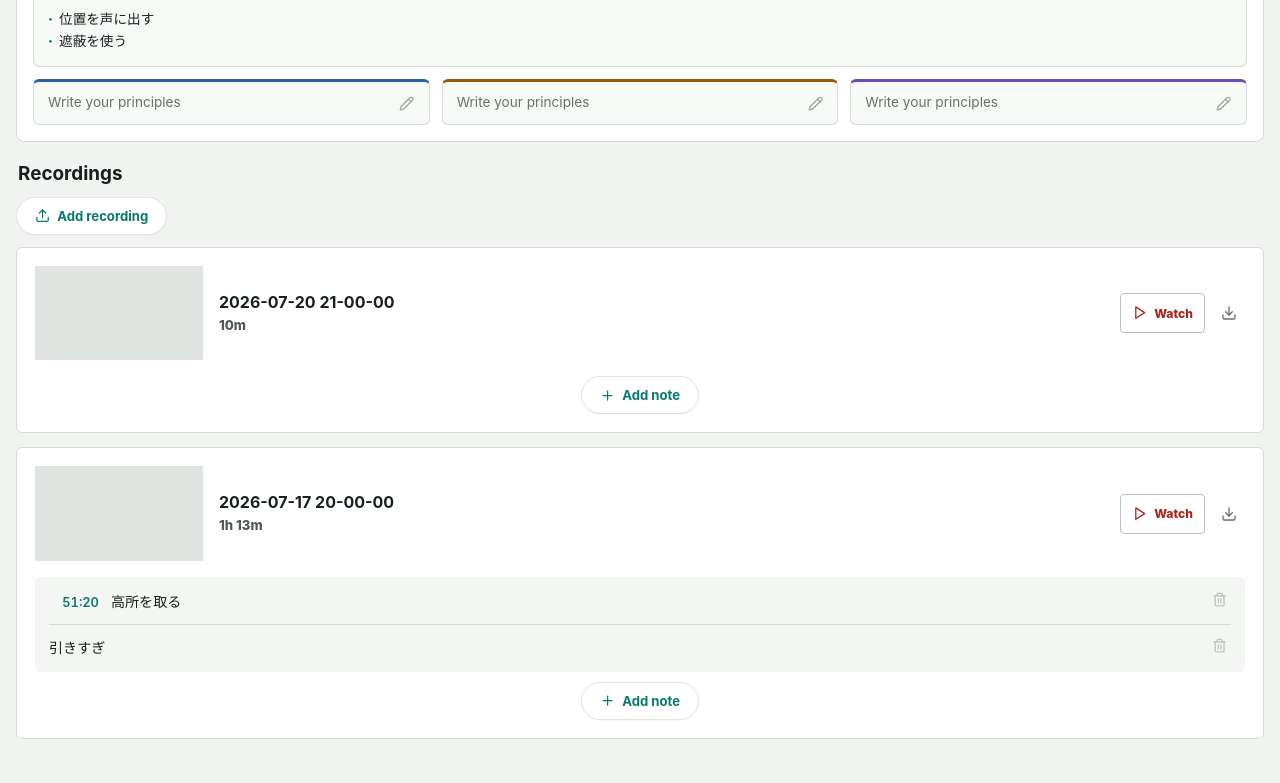
Test case: home › asks before deleting and shows save and delete failures in the row
(page scrolled)
Click the button named "Delete" in the row of "51:20": (1219, 601) [1208, 589, 1231, 614]
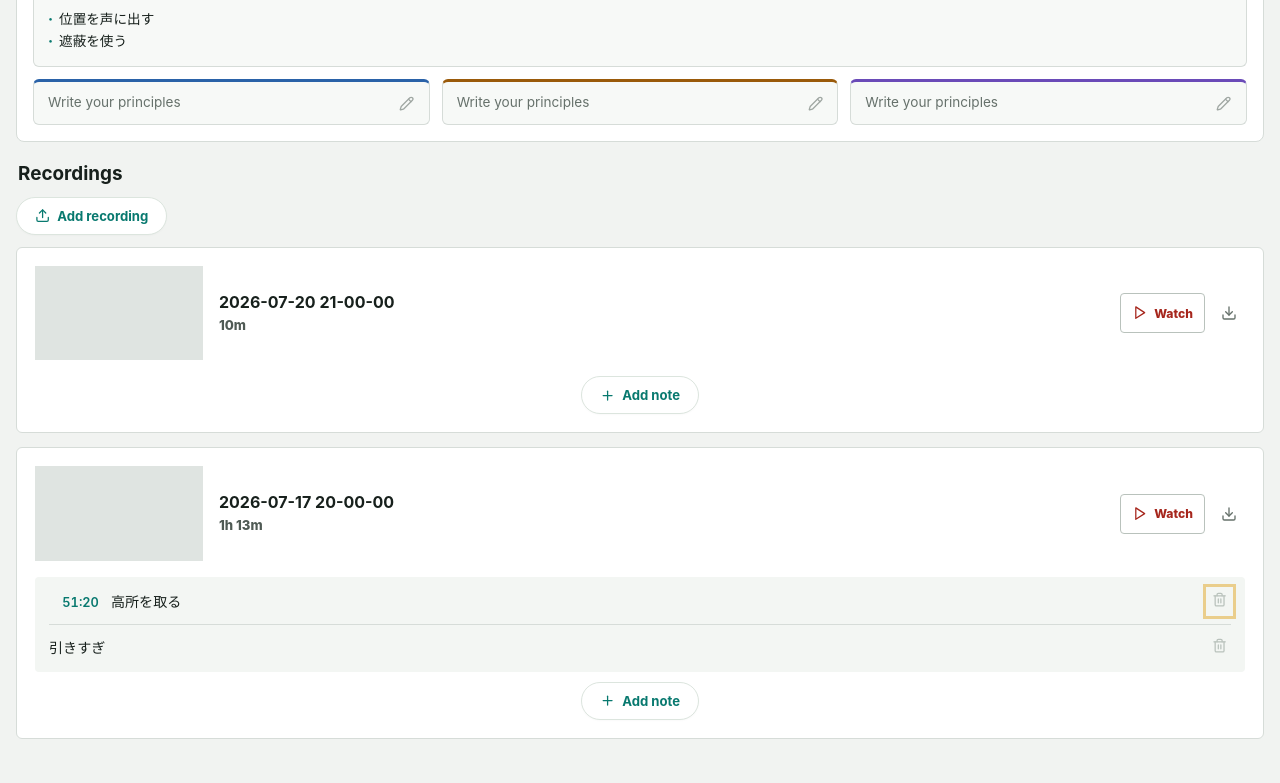
Click the button named "Delete" in the row of "51:20": (1219, 601) [1208, 589, 1231, 614]
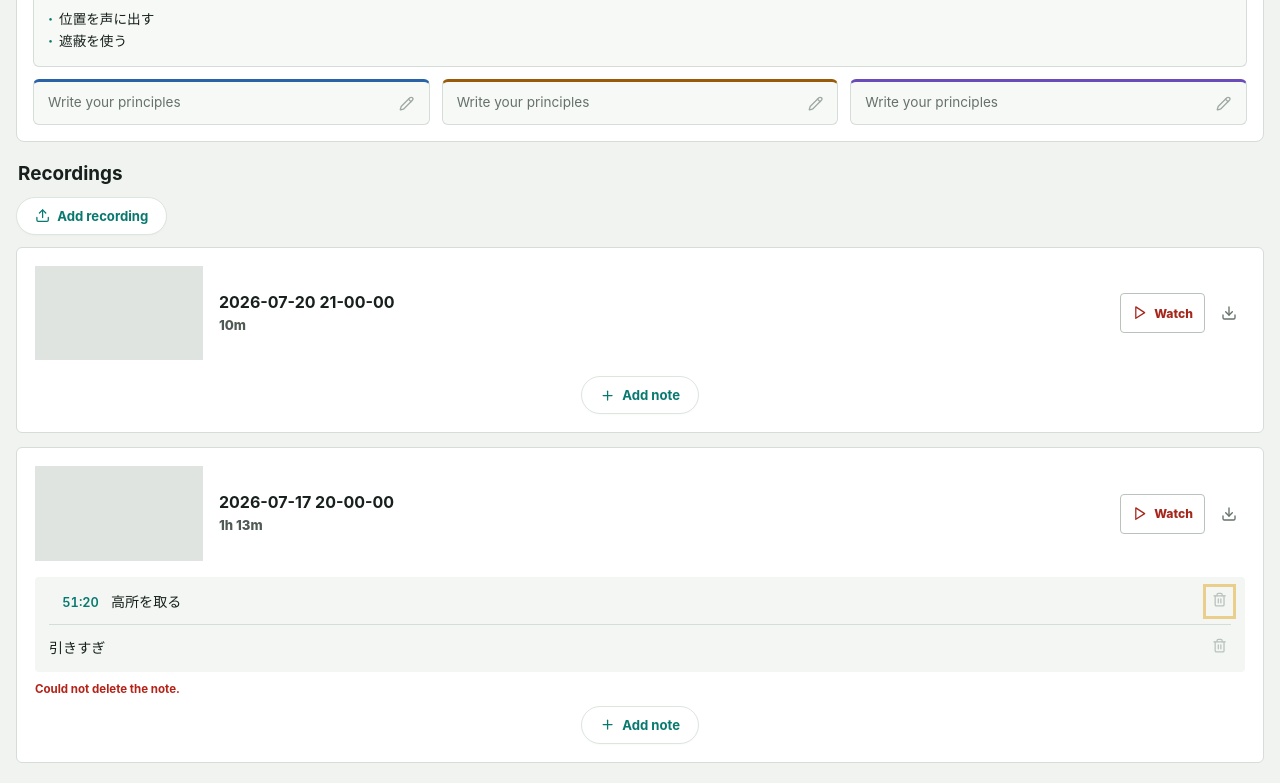
Expected: the button "高所を取る" is shown, [111, 593, 181, 610]
Now the message reads "Could not delete the note.", box [35, 682, 180, 696]
Click the button "引きすぎ": (77, 647) [49, 639, 105, 656]
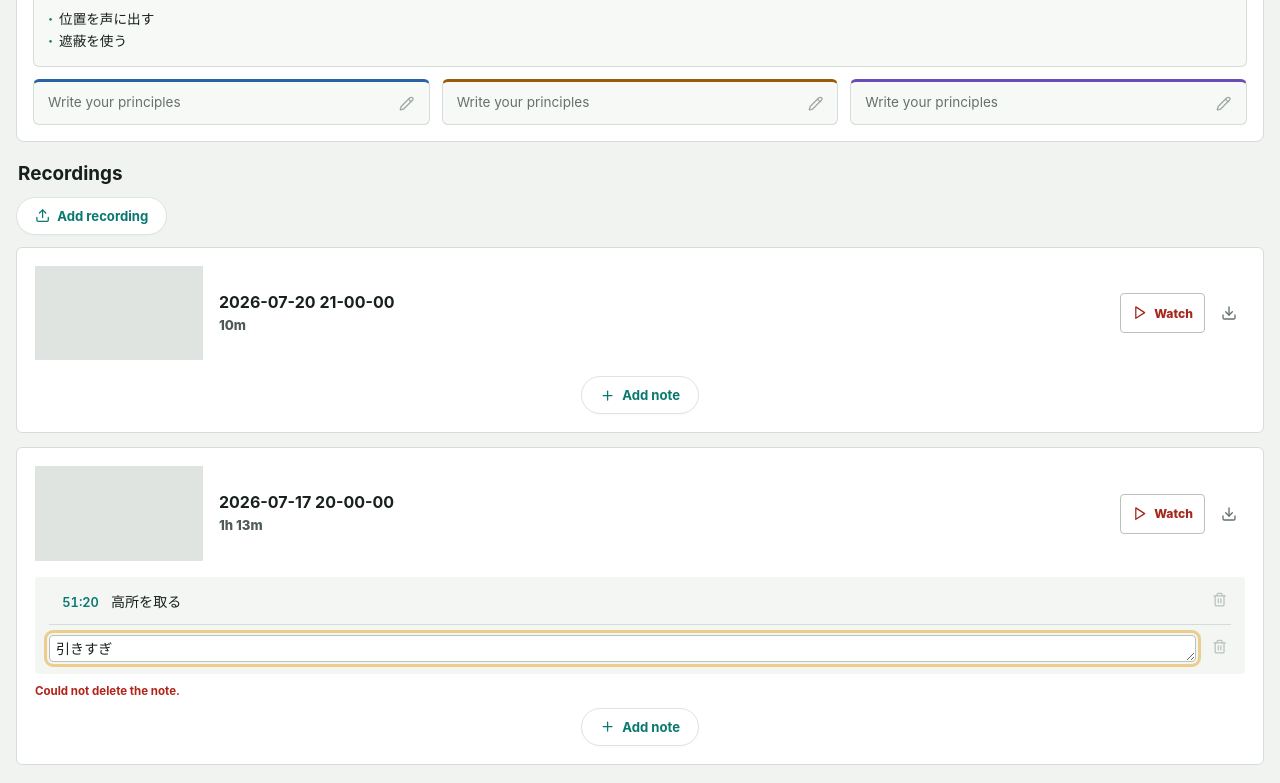
Replace the text in the text box named "Edit note" with "直す": (622, 648) [49, 635, 1196, 662]
Then press Enter
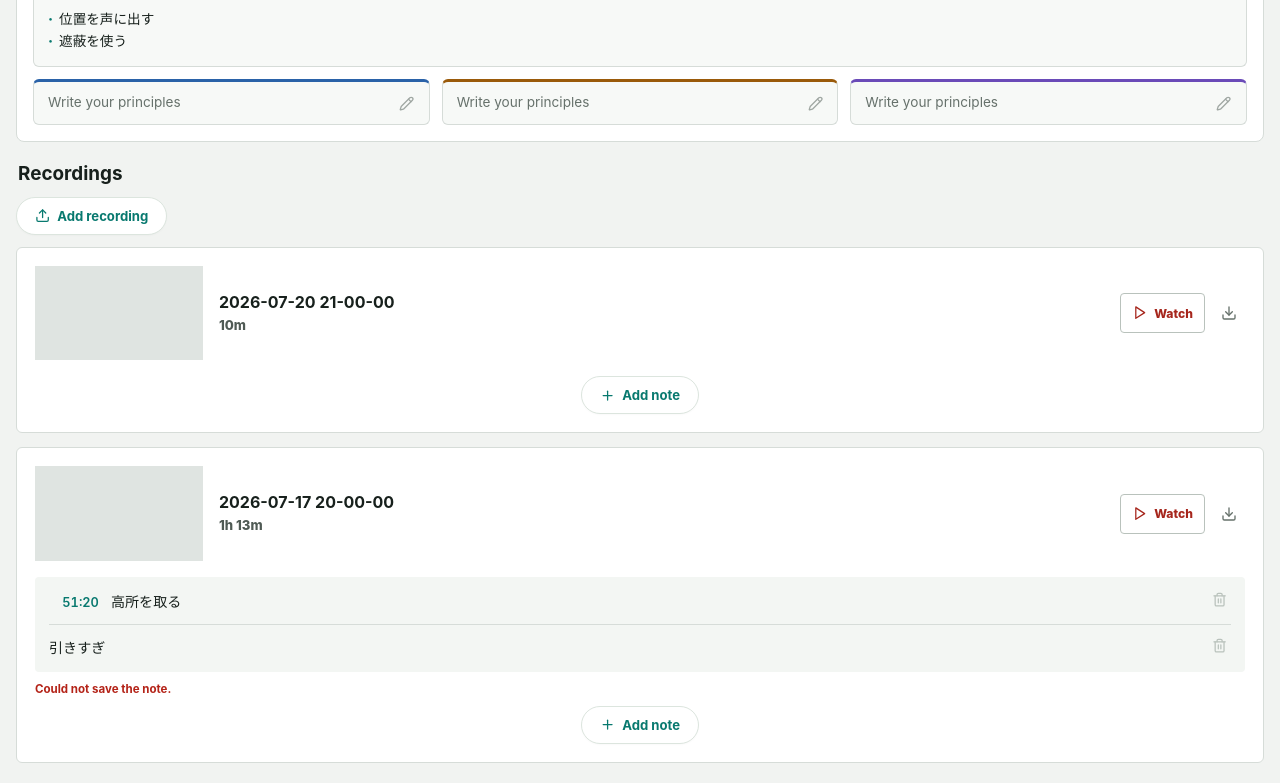
Now the message reads "Could not save the note.", box [35, 682, 171, 696]
Now the button "引きすぎ" is shown, box [49, 639, 105, 656]
